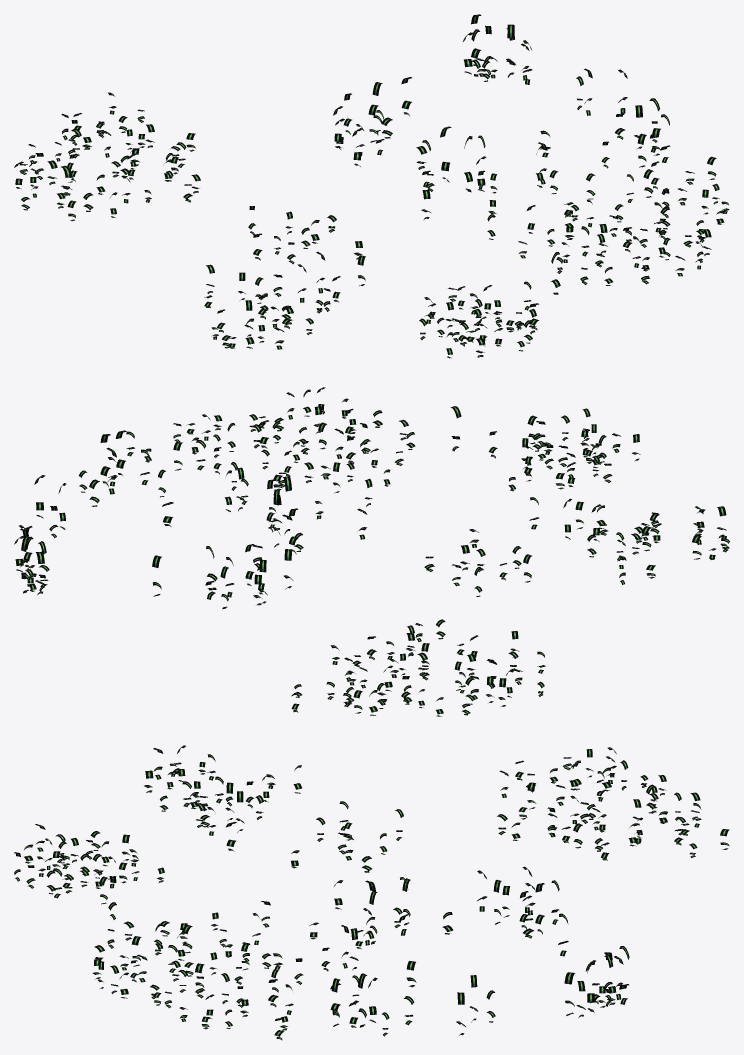
3 views of the same model, one above another, from view 1: azimuth 30°, elevation 25°; view 2: azimuth 150°, elevation 25°; view 3: azimuth 270°, elevation 25° (orthographic).
Size of the model in its own units: 86.6 by 8.87 by 95.35.
Materials: 1 (1 with a texture image).
